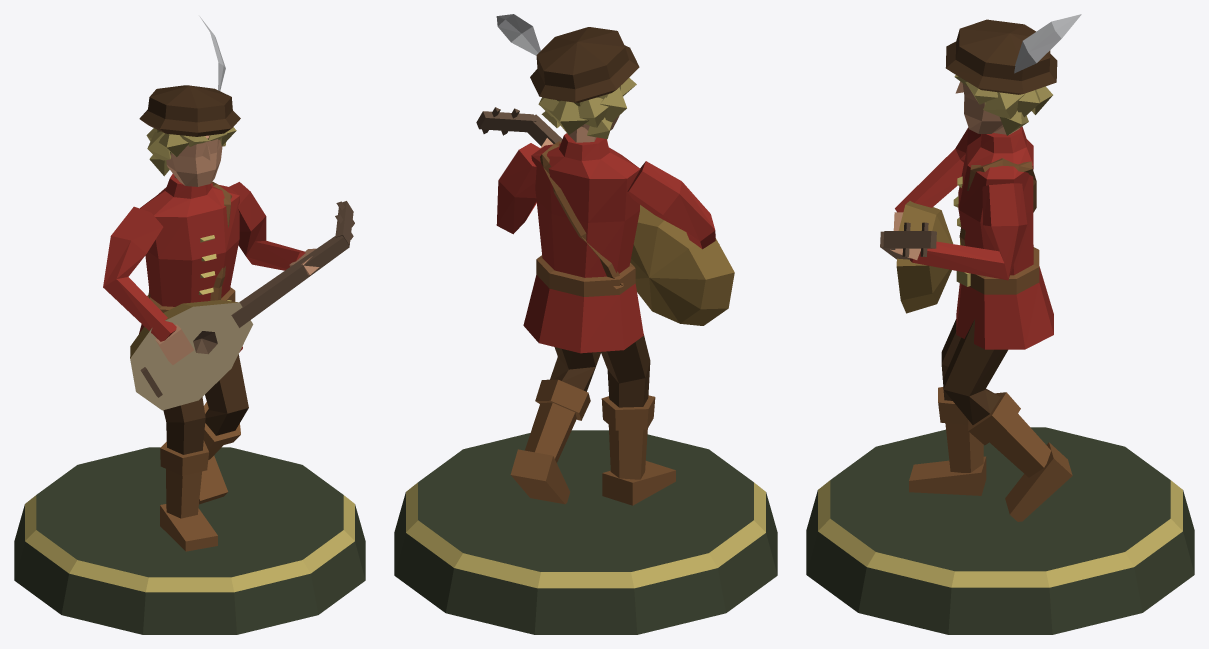
File: bard-miniature-274f82.glb
3 renders of one model, left to right at view 1: azimuth 30°, elevation 25°; view 2: azimuth 150°, elevation 25°; view 3: azimuth 270°, elevation 25°, orthographic. The views are drawn at different scales.
Parts seen in each view (by area): view 1: bard, head; view 2: bard, head; view 3: bard, head.
Boxes of the visible parts, box(x1,y1,x2,y2) form: bard: box(14, 173, 365, 634); head: box(139, 16, 240, 186); bard: box(394, 107, 777, 634); head: box(496, 14, 639, 142); bard: box(806, 126, 1194, 634); head: box(945, 14, 1081, 135).
Bounding box in the file's own units: 0.025 × 0.04 × 0.025.
